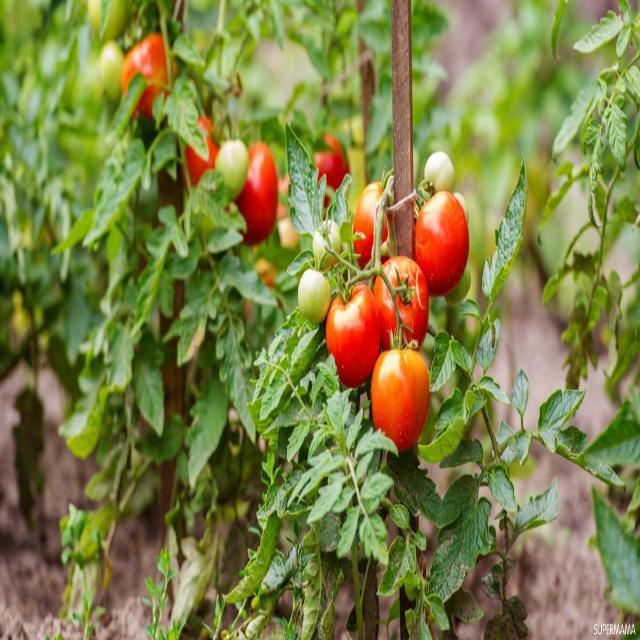kirmizi: (374, 224, 446, 342)
yesil: (210, 120, 256, 194), (416, 126, 456, 198), (294, 258, 332, 328)
